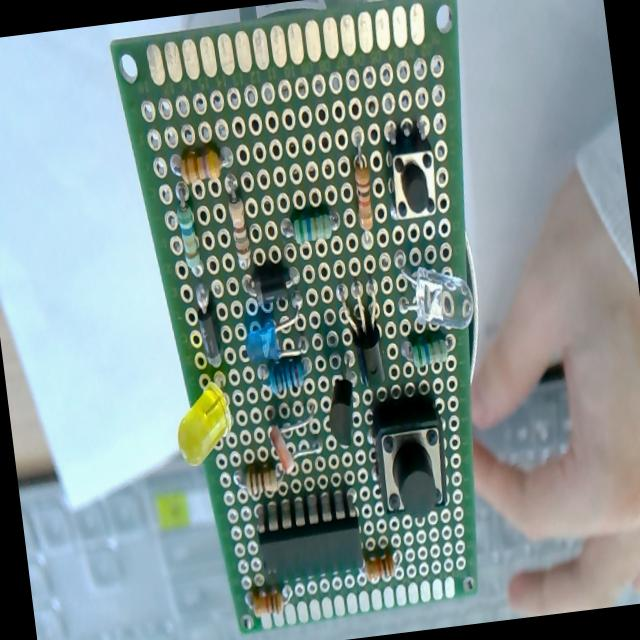IC: (257, 492, 366, 584)
cds: (258, 406, 322, 476)
diode: (192, 279, 225, 371), (251, 262, 299, 308)
led: (392, 255, 477, 338), (172, 381, 238, 470), (244, 312, 307, 366)
resistor: (240, 446, 314, 496), (347, 132, 376, 232), (172, 182, 202, 278), (223, 174, 252, 268), (254, 351, 309, 396), (176, 144, 233, 186), (284, 206, 340, 242), (248, 585, 293, 621), (401, 336, 448, 370), (362, 551, 397, 585), (246, 465, 278, 496)
switch: (368, 396, 452, 520), (381, 120, 441, 222)
transistor: (335, 274, 389, 392), (324, 378, 360, 447)
